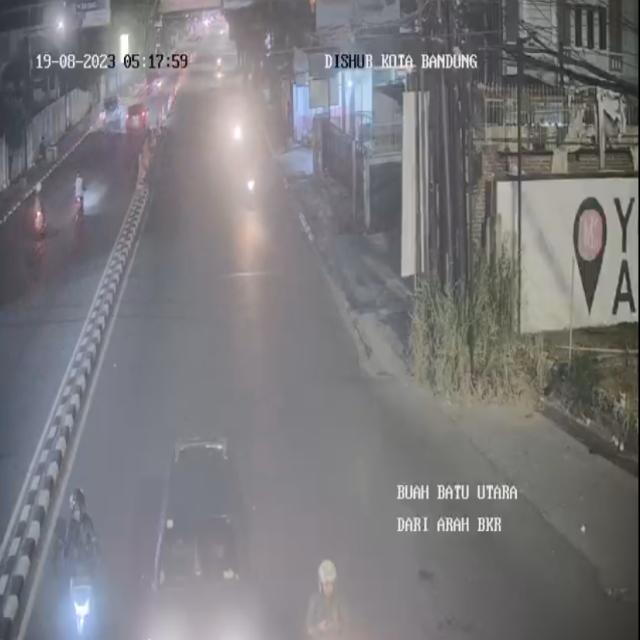cars: (146, 427, 254, 640)
motorcycle: (59, 478, 104, 640), (305, 546, 351, 639)
